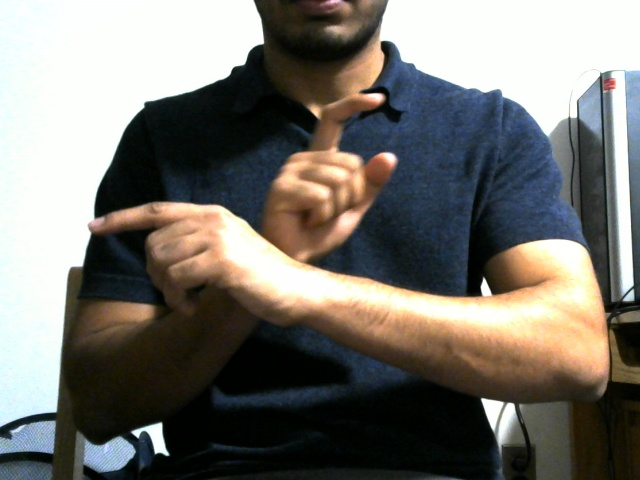call: (47, 72, 461, 327)
